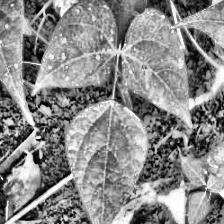ALS: (70, 94, 148, 224), (26, 0, 122, 96), (127, 7, 193, 138)
